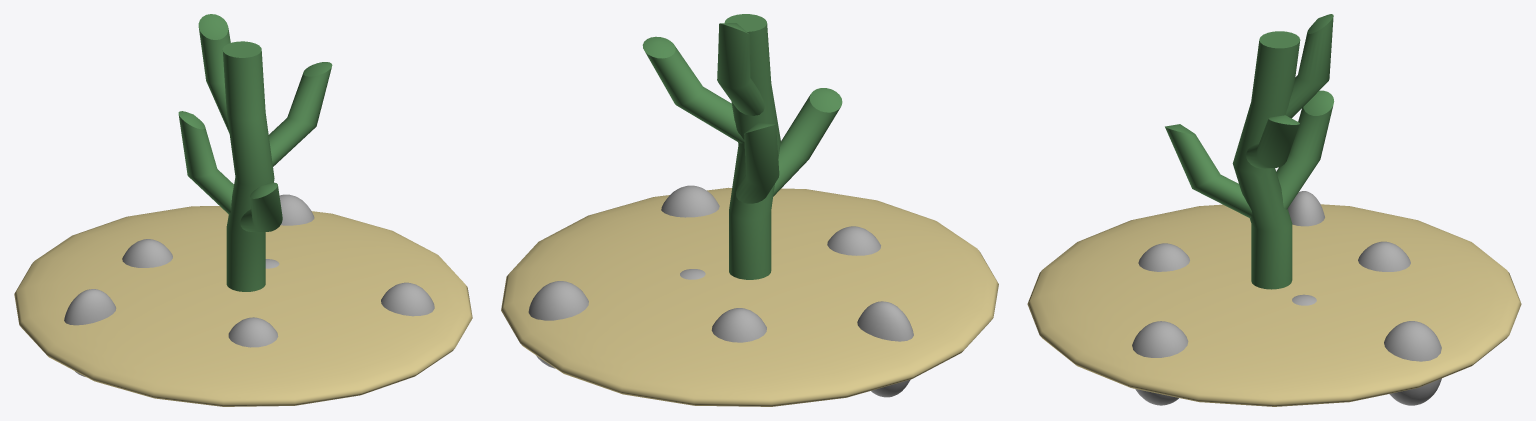
Rendered from Desert_Hub_V2.fbx.
3 renders of one model, left to right at view 1: azimuth 30°, elevation 25°; view 2: azimuth 150°, elevation 25°; view 3: azimuth 270°, elevation 25°, orthographic. The views are drawn at different scales.
Visible parts, largest first — view 1: pSphere1, pCylinder1, pCylinder2, pCylinder3, pCylinder4, pCylinder5, pSphere7, pSphere4, pSphere3, pSphere2, pSphere5; view 2: pSphere1, pCylinder1, pCylinder2, pCylinder5, pCylinder4, pCylinder3, pSphere7, pSphere5, pSphere2, pSphere4, pSphere3; view 3: pSphere1, pCylinder1, pCylinder3, pCylinder5, pCylinder4, pSphere5, pSphere4, pCylinder2, pSphere2, pSphere3, pSphere7.
Part boxes in pixels (box(x1,y1,x2,y2)): pSphere1: box(14, 206, 472, 406); pCylinder1: box(222, 41, 274, 291); pCylinder2: box(268, 62, 332, 166); pCylinder3: box(178, 111, 233, 214); pCylinder4: box(198, 14, 230, 133); pCylinder5: box(240, 182, 282, 231); pSphere7: box(64, 289, 116, 376); pSphere4: box(381, 282, 434, 316); pSphere3: box(228, 317, 278, 347); pSphere2: box(122, 239, 172, 267); pSphere5: box(279, 194, 314, 225); pSphere1: box(501, 187, 998, 406); pCylinder1: box(724, 14, 780, 279); pCylinder2: box(642, 36, 744, 143); pCylinder5: box(773, 88, 842, 196); pCylinder4: box(717, 23, 764, 115); pCylinder3: box(736, 122, 779, 203); pSphere7: box(857, 301, 913, 397); pSphere5: box(528, 281, 588, 368); pSphere2: box(711, 308, 766, 342); pSphere4: box(661, 185, 719, 217); pSphere3: box(827, 226, 880, 255); pSphere1: box(1027, 204, 1521, 406); pCylinder1: box(1232, 31, 1300, 289); pCylinder3: box(1276, 90, 1334, 209); pCylinder5: box(1165, 124, 1252, 218); pCylinder4: box(1285, 14, 1333, 118); pSphere5: box(1384, 321, 1441, 405); pSphere4: box(1132, 321, 1188, 405); pCylinder2: box(1246, 115, 1299, 168); pSphere2: box(1358, 241, 1410, 271); pSphere3: box(1138, 243, 1189, 271); pSphere7: box(1287, 191, 1324, 226).
Bounding box in the file's own units: 49.92 × 38.63 × 51.96.
